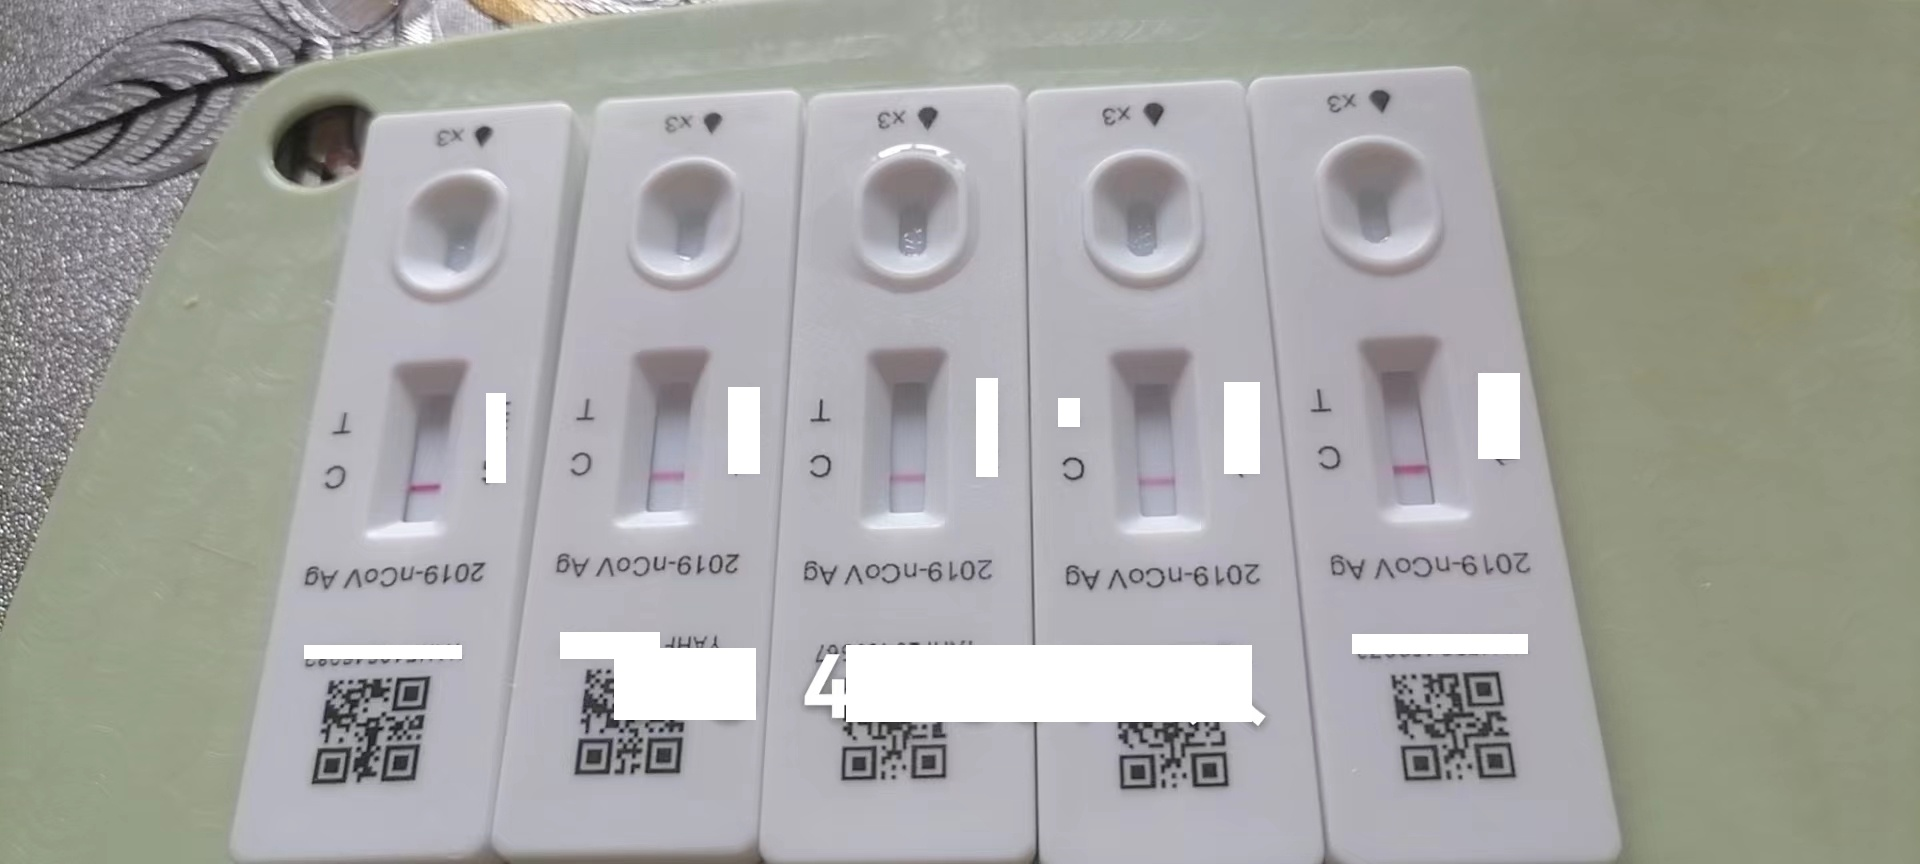negative: (1109, 348, 1213, 536), (1360, 332, 1463, 521), (862, 350, 949, 526), (629, 352, 713, 526), (377, 363, 460, 527)
